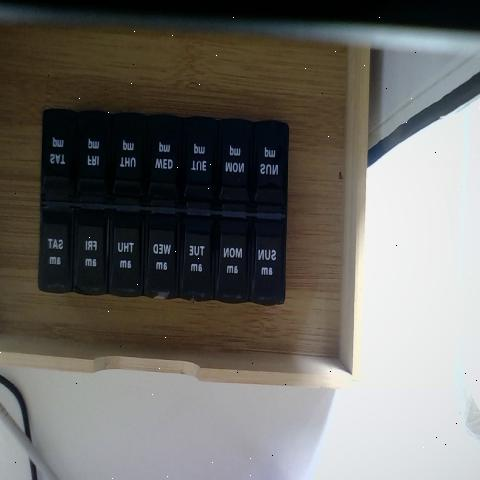FRI-am: (76, 208, 110, 296)
FRI-pm: (76, 117, 111, 201)
MON-am: (216, 218, 253, 301)
MON-pm: (217, 126, 255, 212)
SAT-am: (38, 206, 74, 295)
SAT-pm: (41, 120, 75, 202)
SUN-am: (252, 219, 284, 305)
SUN-pm: (254, 126, 288, 214)
THU-am: (110, 207, 145, 296)
THU-pm: (114, 121, 146, 204)
TUE-am: (184, 226, 216, 305)
TUE-pm: (182, 125, 219, 209)
WED-am: (147, 213, 182, 299)
WED-pm: (148, 123, 182, 208)
